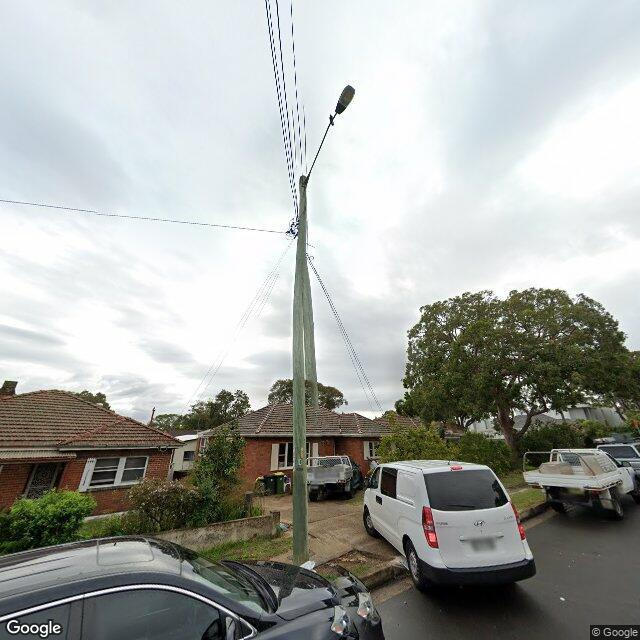streetlight: (302, 85, 354, 192)
timber-pole: (290, 176, 308, 566)
